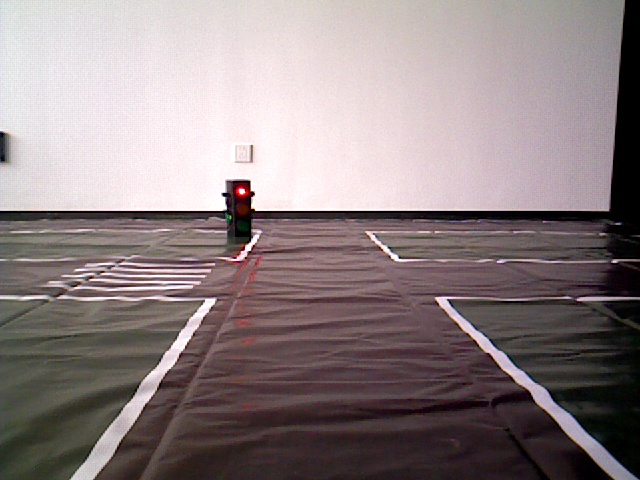red: (223, 184, 252, 236)
